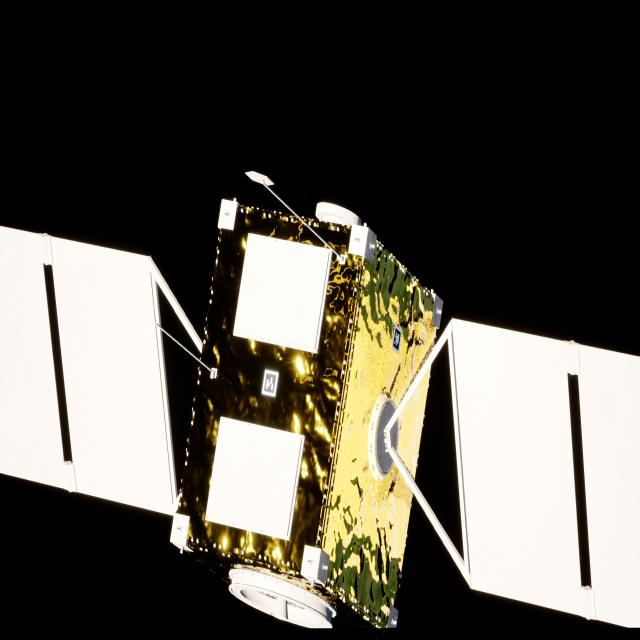satellite: (0, 199, 640, 631)
